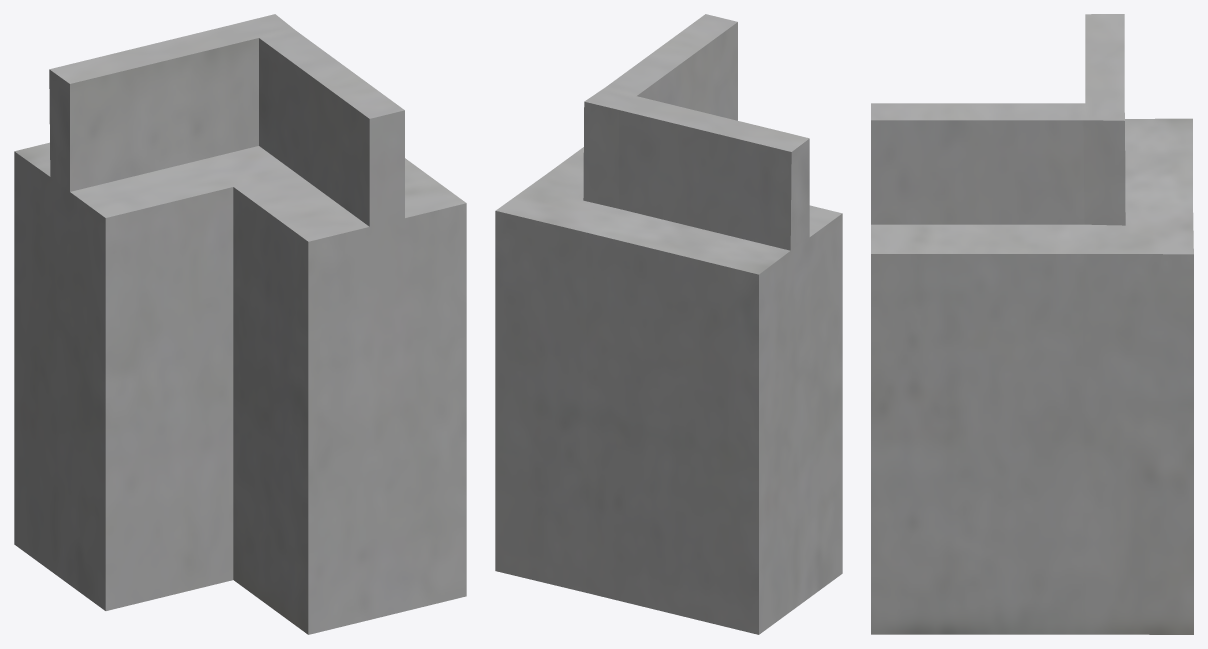
File: ShortLLeft.fbx
3 renders of one model, left to right at view 1: azimuth 30°, elevation 25°; view 2: azimuth 150°, elevation 25°; view 3: azimuth 270°, elevation 25°, orthographic. The views are drawn at different scales.
Parts seen in each view (by area): view 1: StairConcreteLShortLeft; view 2: StairConcreteLShortLeft; view 3: StairConcreteLShortLeft.
Boxes of the visible parts, <box> form: StairConcreteLShortLeft: <box>14,14,466,634</box>; StairConcreteLShortLeft: <box>495,14,842,634</box>; StairConcreteLShortLeft: <box>871,14,1193,634</box>.
Size of what is drawn, in the model's own units: 68.45 by 114 by 68.79.
